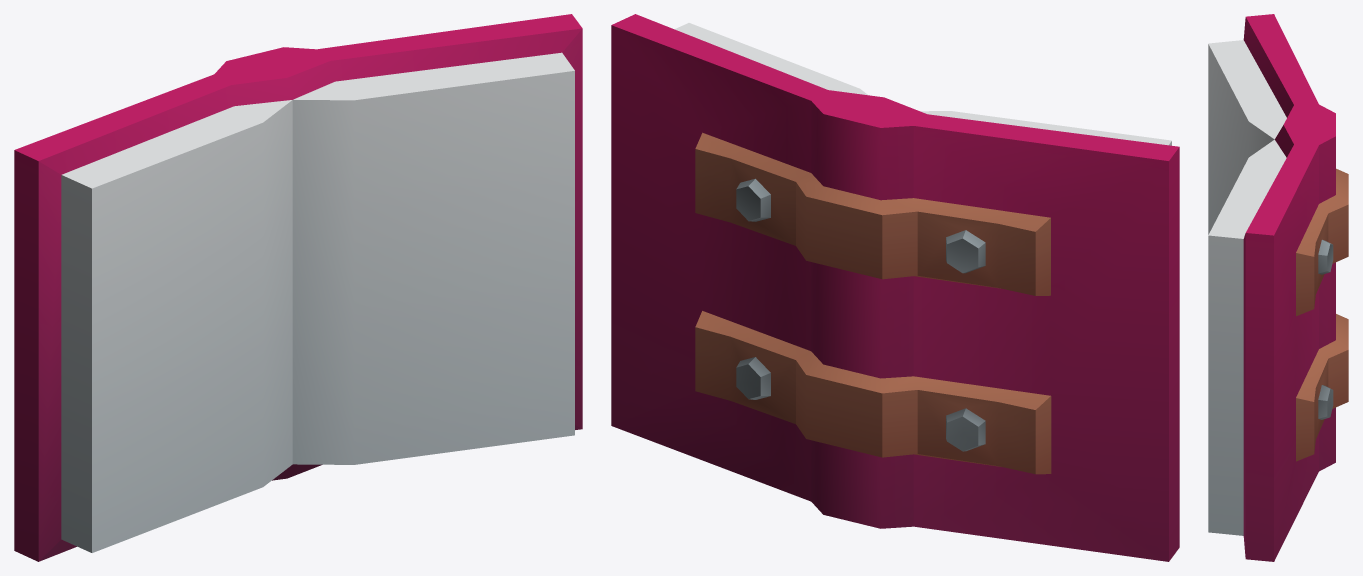
Rendered from spellbook_open.glb.
3 views of the same model, side by side, from view 1: azimuth 30°, elevation 25°; view 2: azimuth 150°, elevation 25°; view 3: azimuth 270°, elevation 25° (orthographic). The views are drawn at different scales.
Parts seen in each view (by area): view 1: spellbook_open; view 2: spellbook_open; view 3: spellbook_open.
Part boxes in pixels (x1,y1,x2,y2): spellbook_open: [14, 14, 582, 561]; spellbook_open: [611, 14, 1179, 561]; spellbook_open: [1208, 14, 1348, 561].
Size of the model in its own units: 0.8282 by 0.5688 by 0.2219.
Materials: 1 (1 with a texture image).
